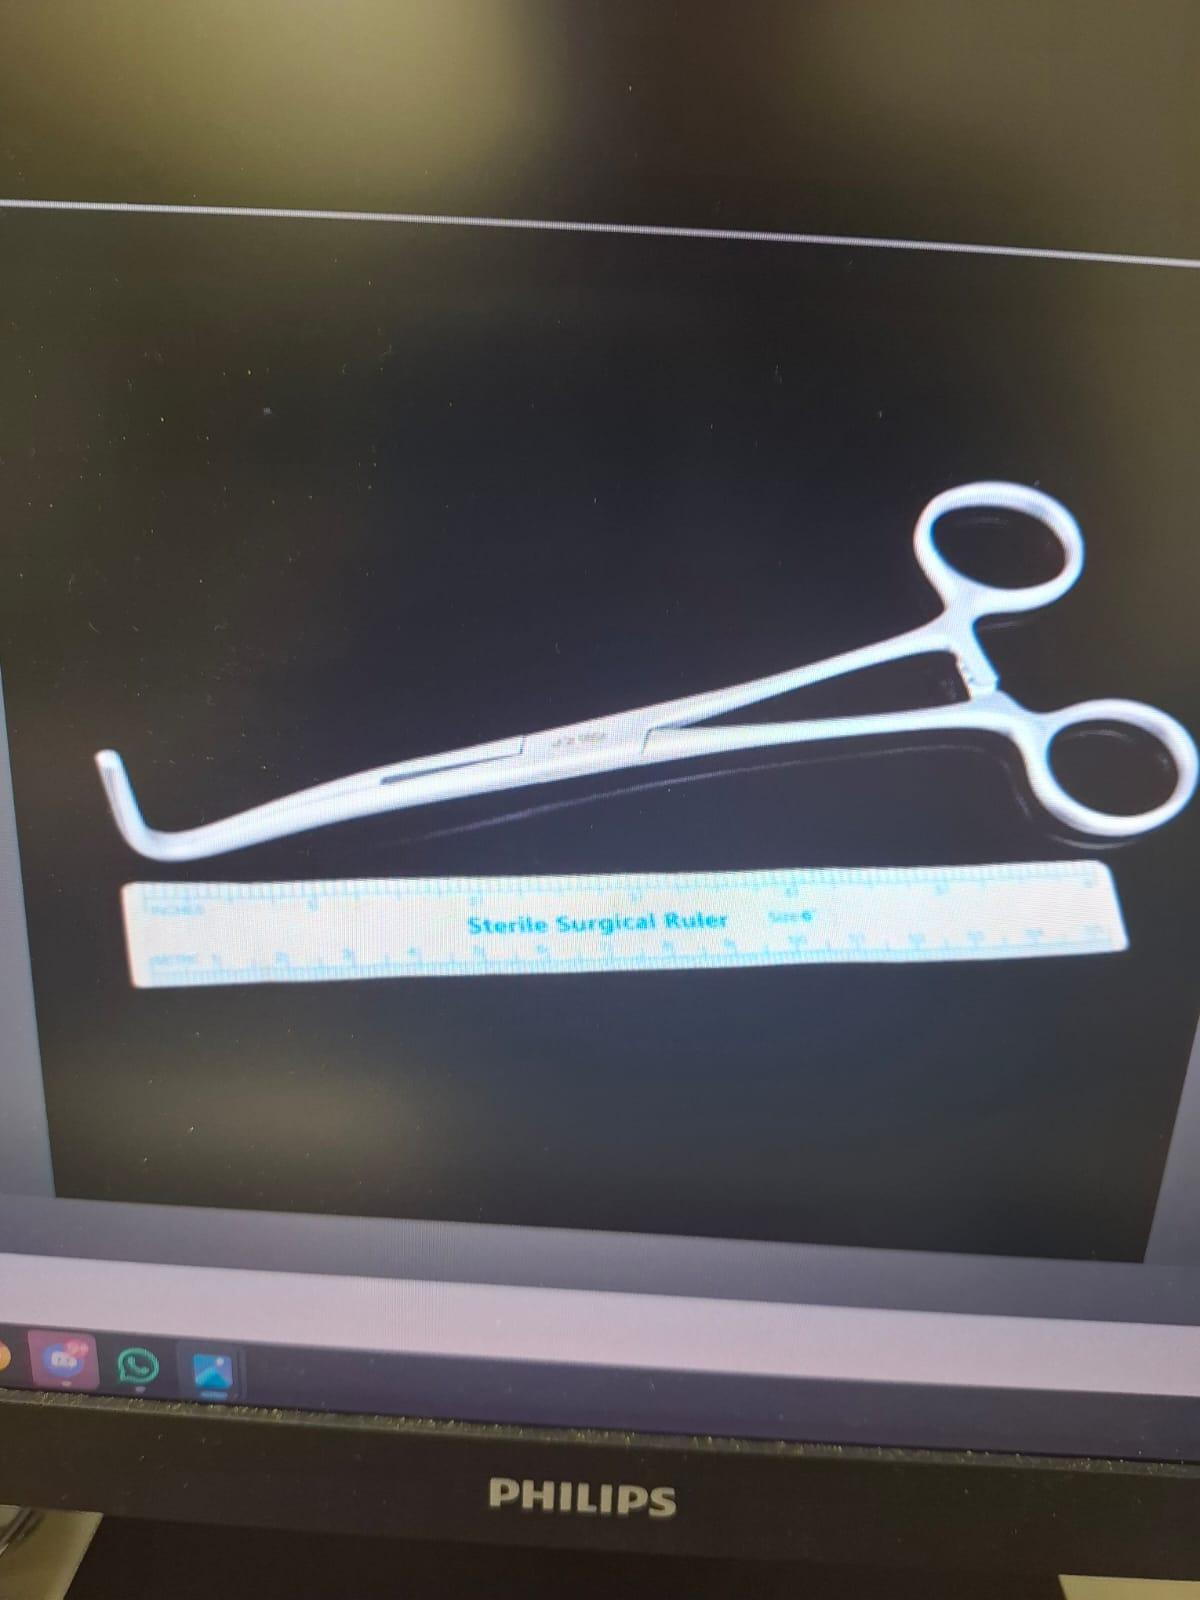Rectangle Cholecystectomy Forceps: (73, 480, 1200, 873)
